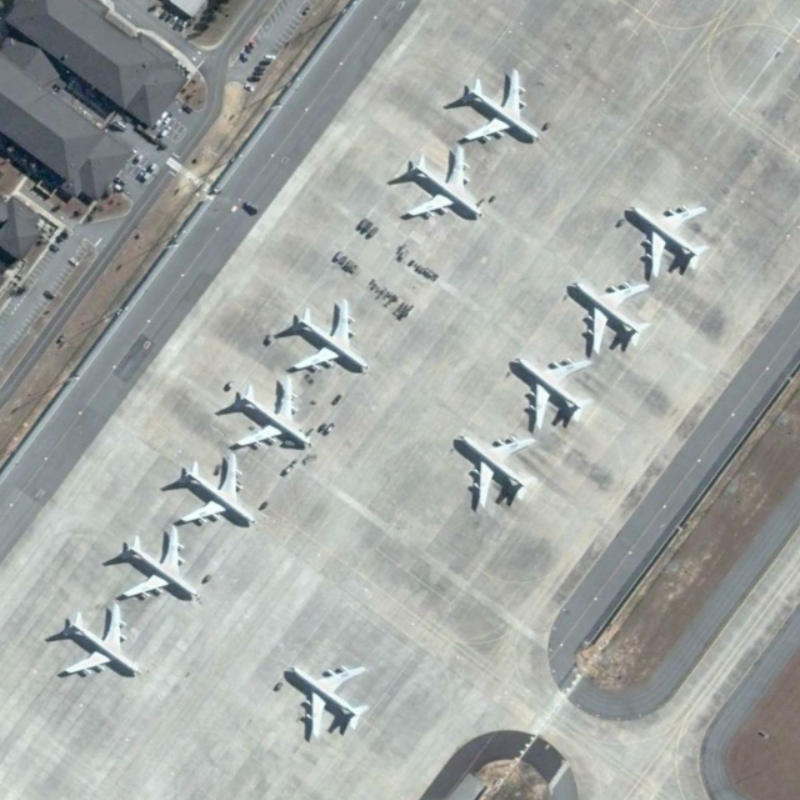A11: (171, 448, 260, 533), (50, 599, 142, 681), (626, 198, 712, 283), (451, 67, 541, 148), (398, 143, 485, 226), (567, 276, 655, 358), (511, 355, 596, 437), (286, 660, 371, 742), (118, 520, 201, 602), (286, 296, 370, 377), (229, 374, 316, 452), (454, 432, 538, 512)
